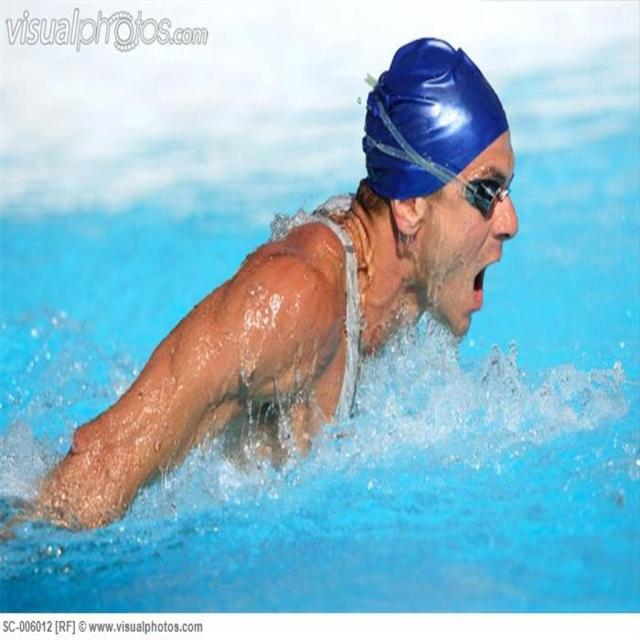Face: (391, 113, 523, 350)
